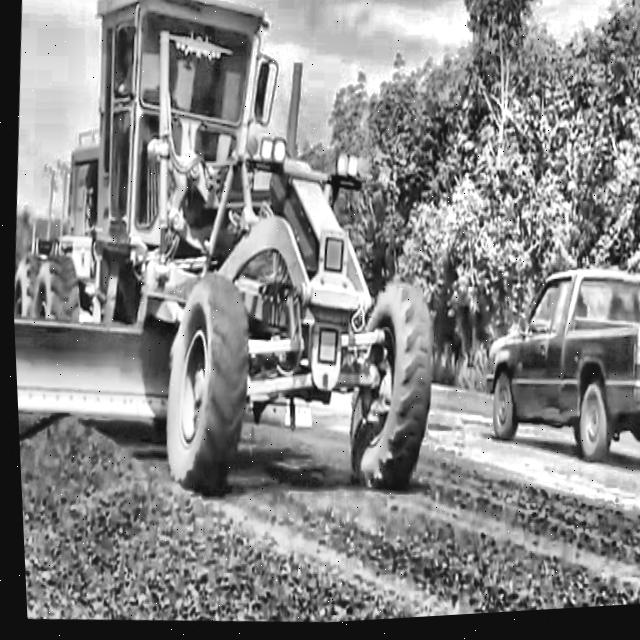buldozerpayloadergrader: (0, 0, 460, 520)
